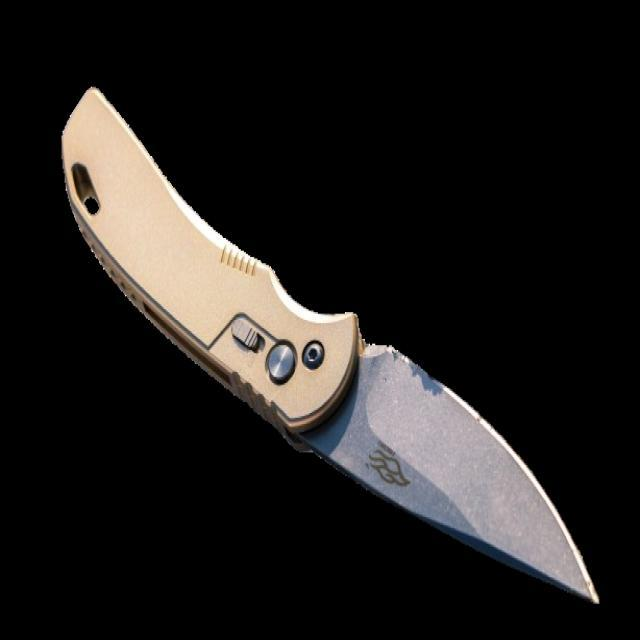knife: (56, 84, 602, 605)
